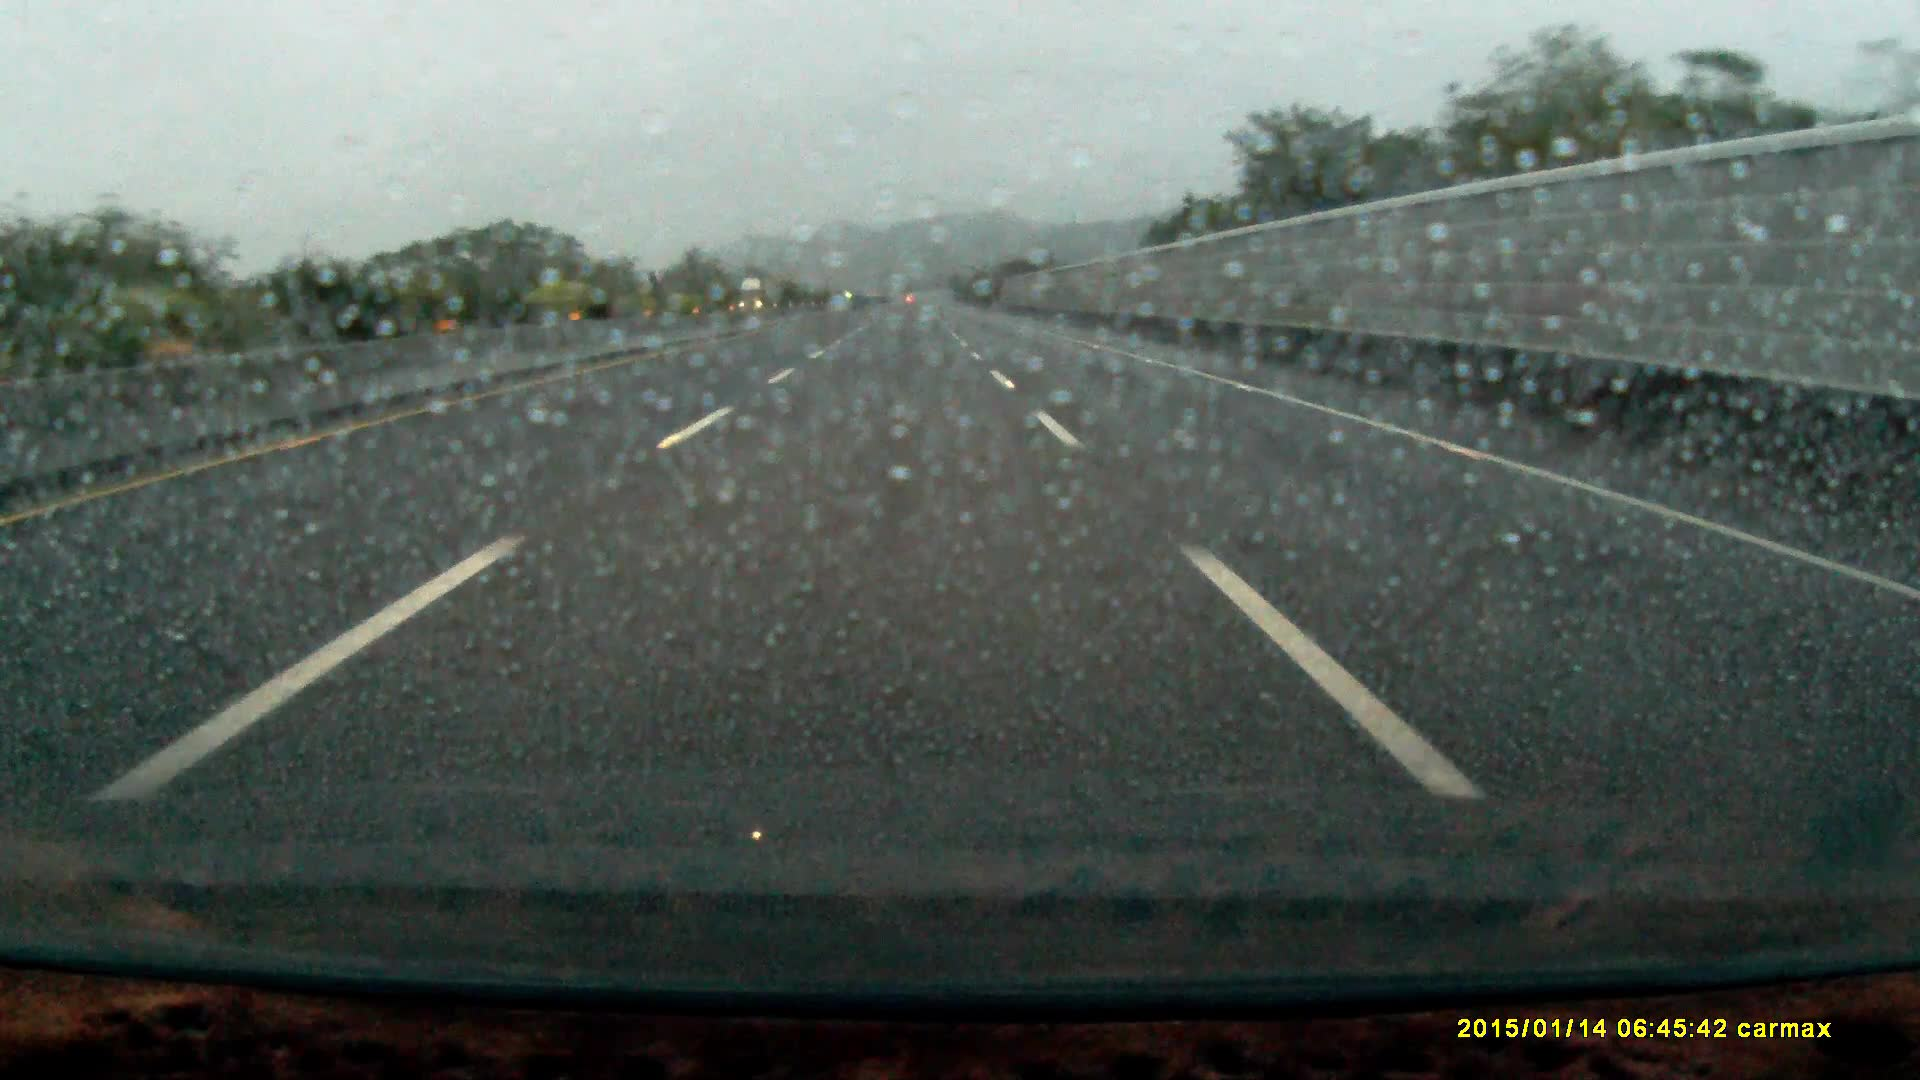vehicle: (738, 278, 773, 311)
